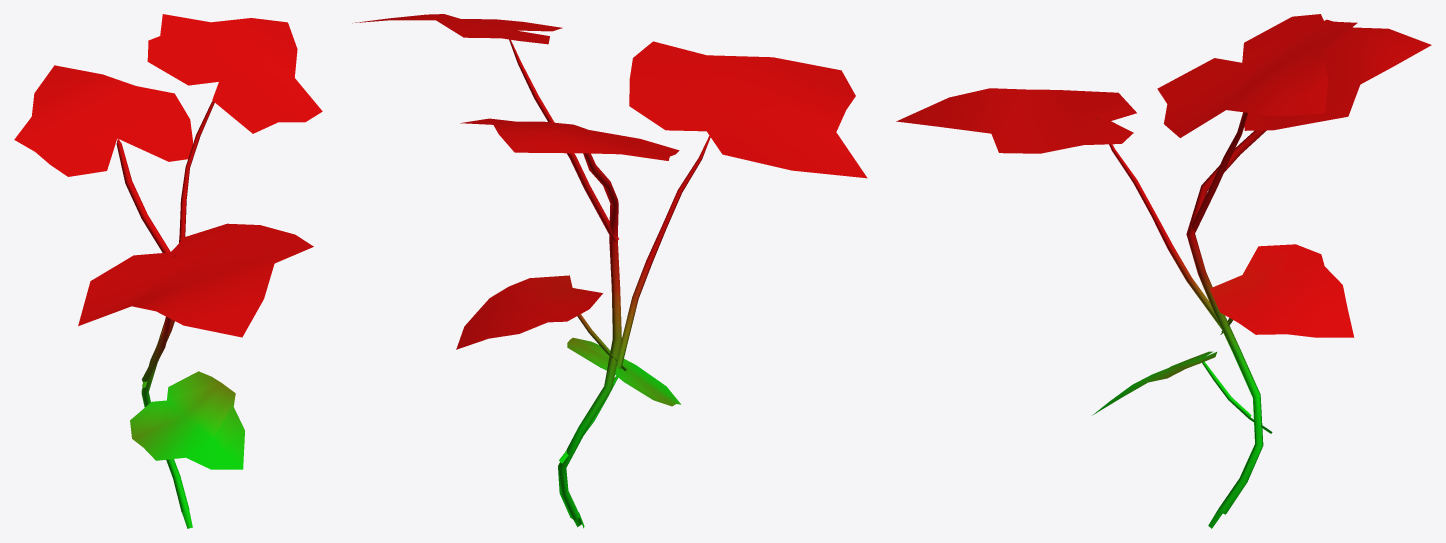
The model's file is Var9_LOD1.fbx.
3 renders of one model, left to right at view 1: azimuth 30°, elevation 25°; view 2: azimuth 150°, elevation 25°; view 3: azimuth 270°, elevation 25°, orthographic. The views are drawn at different scales.
Parts seen in each view (by area): view 1: _zgwu_Var9_LOD1; view 2: _zgwu_Var9_LOD1; view 3: _zgwu_Var9_LOD1.
Part boxes in pixels (x1=…): _zgwu_Var9_LOD1: x1=14, y1=14, x2=322, y2=528; _zgwu_Var9_LOD1: x1=352, y1=14, x2=867, y2=528; _zgwu_Var9_LOD1: x1=896, y1=14, x2=1431, y2=528.
Size of the model in its own units: 14.09 by 18.91 by 17.5.
